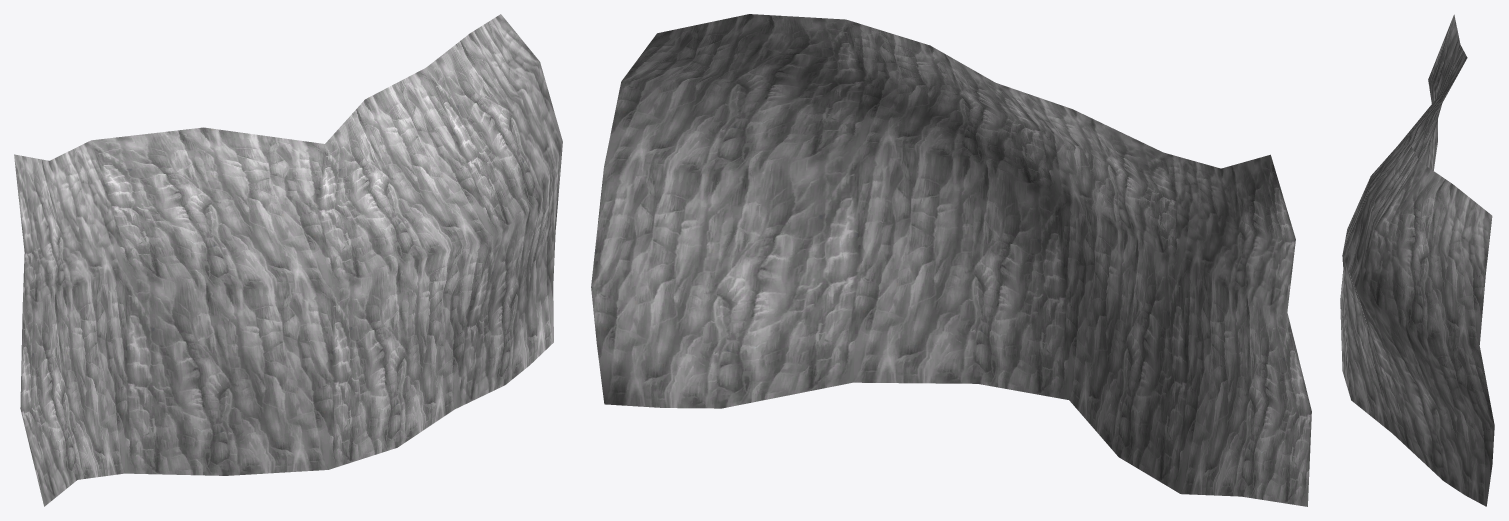
Rendered from SWORDLIGHT20_PS-AREA03_32.fbx.
3 views of the same model, side by side, from view 1: azimuth 30°, elevation 25°; view 2: azimuth 150°, elevation 25°; view 3: azimuth 270°, elevation 25° (orthographic). The views are drawn at different scales.
Visible parts, largest first — view 1: SWORDLIGHT20_PS-AREA03_32; view 2: SWORDLIGHT20_PS-AREA03_32; view 3: SWORDLIGHT20_PS-AREA03_32.
Boxes of the visible parts, <box> form: SWORDLIGHT20_PS-AREA03_32: <box>14,14,562,506</box>; SWORDLIGHT20_PS-AREA03_32: <box>591,14,1311,506</box>; SWORDLIGHT20_PS-AREA03_32: <box>1340,14,1494,506</box>.
Size of the model in its own units: 299349 by 174641 by 85638.
1 material, 1 textured.
